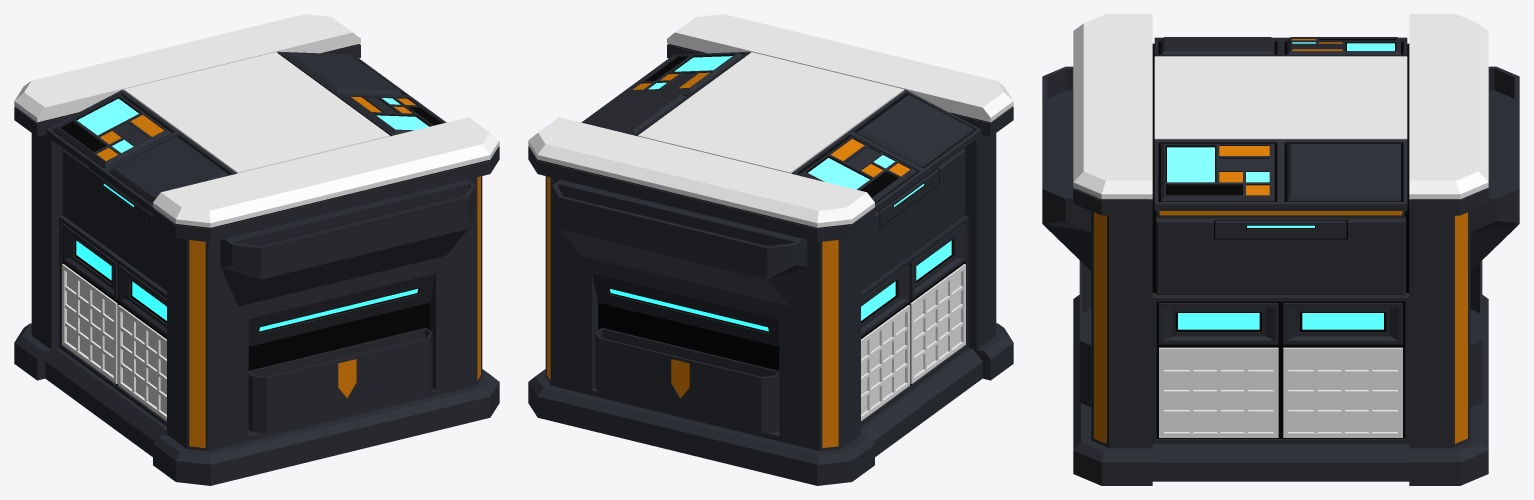
Rendered from SM_Data_Workstation.fbx.
3 renders of one model, left to right at view 1: azimuth 30°, elevation 25°; view 2: azimuth 150°, elevation 25°; view 3: azimuth 270°, elevation 25°, orthographic. The views are drawn at different scales.
Parts seen in each view (by area): view 1: SM_Data_Workstation; view 2: SM_Data_Workstation; view 3: SM_Data_Workstation.
Part boxes in pixels (<box>): SM_Data_Workstation: <box>14,14,499,485</box>; SM_Data_Workstation: <box>528,14,1013,485</box>; SM_Data_Workstation: <box>1042,14,1519,485</box>.
Size of the model in its own units: 100 by 80 by 115.
